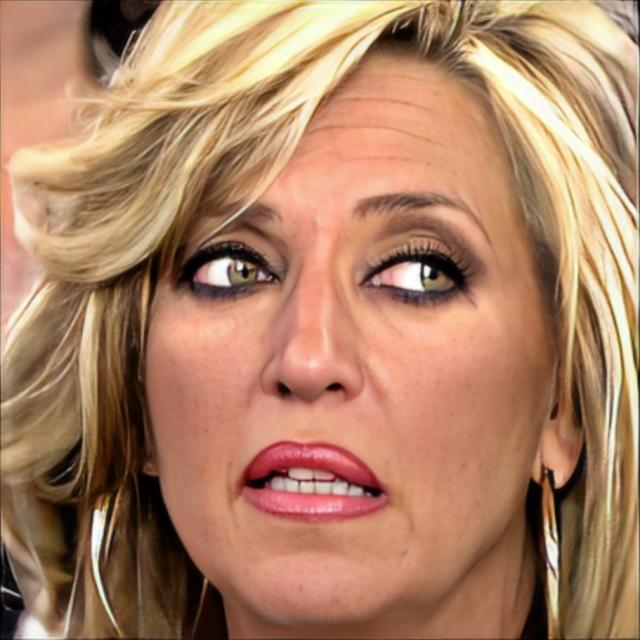disgust: (145, 52, 563, 624)
